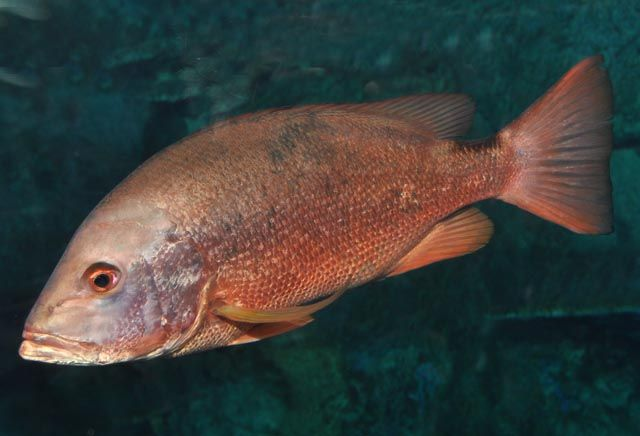fish: (18, 53, 616, 366)
